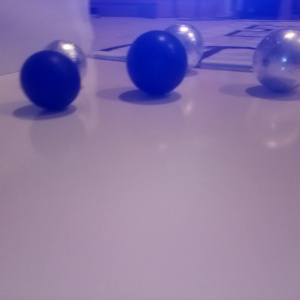alive_ball: (252, 29, 300, 92), (40, 39, 87, 86), (159, 23, 203, 72)
dead_ball: (126, 30, 187, 96), (20, 49, 81, 110)
